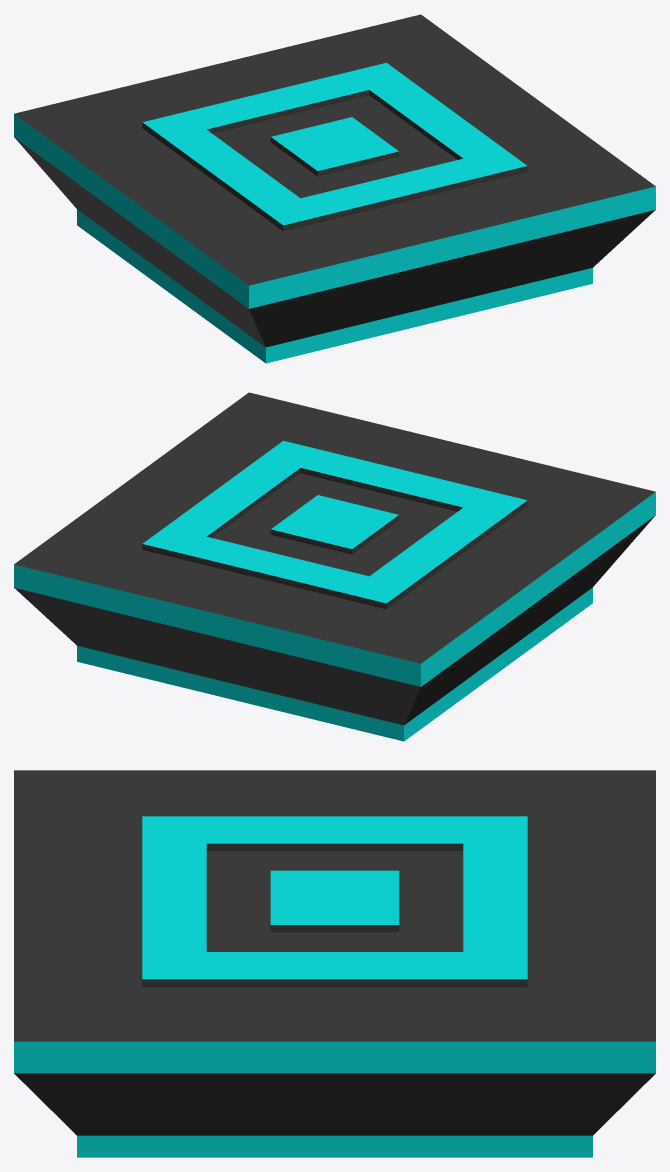
Rendered from Platform.fbx.
3 renders of one model, top to bottom at view 1: azimuth 30°, elevation 25°; view 2: azimuth 150°, elevation 25°; view 3: azimuth 270°, elevation 25°, orthographic. The views are drawn at different scales.
Visible parts, largest first — view 1: platform; view 2: platform; view 3: platform.
Part boxes in pixels (x1,y1,x2,y2): platform: (14, 14, 655, 363); platform: (14, 392, 655, 741); platform: (14, 770, 655, 1157).
Bounding box in the file's own units: 4 × 1.04 × 4.
